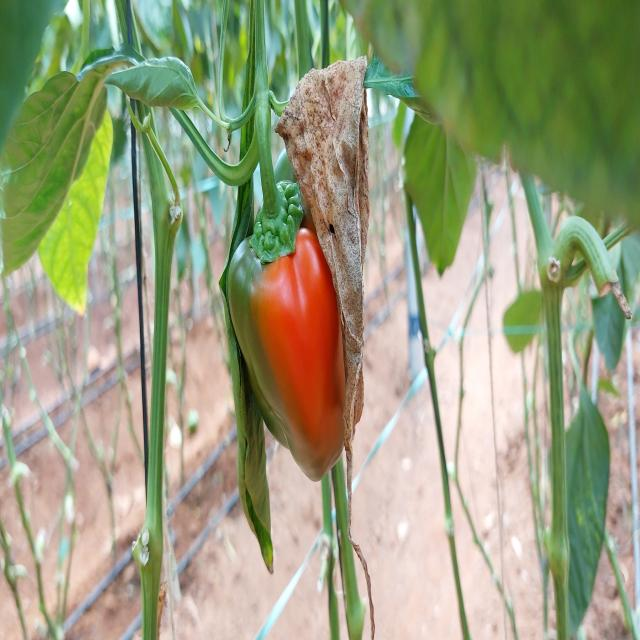BrownishRed--Can-be-Harvested: (230, 233, 376, 482)
